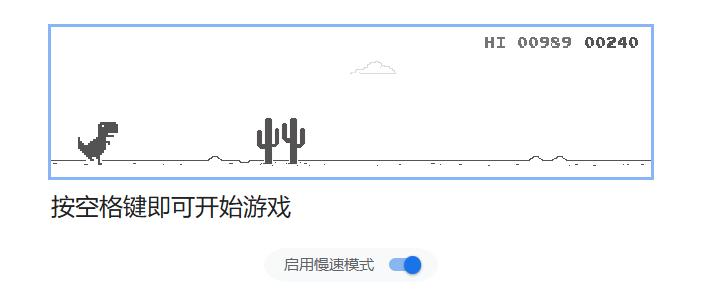cactus: (256, 116, 307, 166)
dino: (75, 121, 119, 166)
